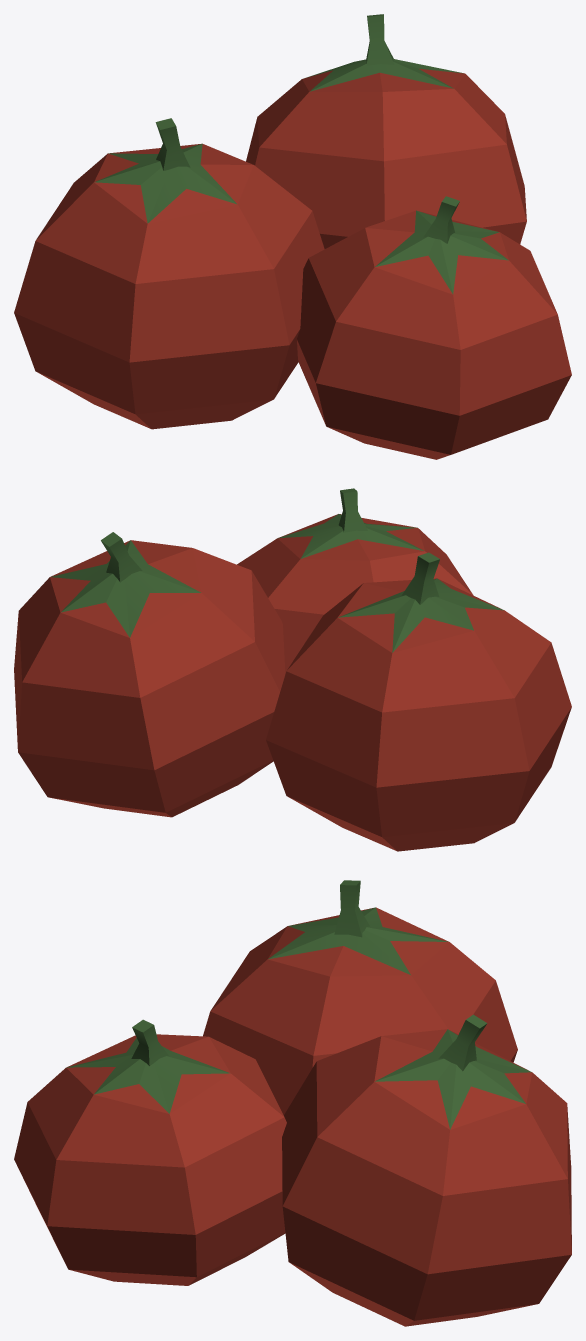
File: SM_Prop_Tomato_01_Group.glb
The picture shows the model from 3 angles, top to bottom: view 1: azimuth 30°, elevation 25°; view 2: azimuth 150°, elevation 25°; view 3: azimuth 270°, elevation 25°; orthographic projection. The views are drawn at different scales.
Parts seen in each view (by area): view 1: SM_Prop_Tomato_01_Group; view 2: SM_Prop_Tomato_01_Group; view 3: SM_Prop_Tomato_01_Group.
Boxes of the visible parts, x1,y1,x2,y2 form: SM_Prop_Tomato_01_Group: (14,14,571,459); SM_Prop_Tomato_01_Group: (14,488,571,851); SM_Prop_Tomato_01_Group: (14,880,571,1326).
Size of the model in its own units: 0.2574 by 0.1347 by 0.2299.
1 material, 1 textured.
